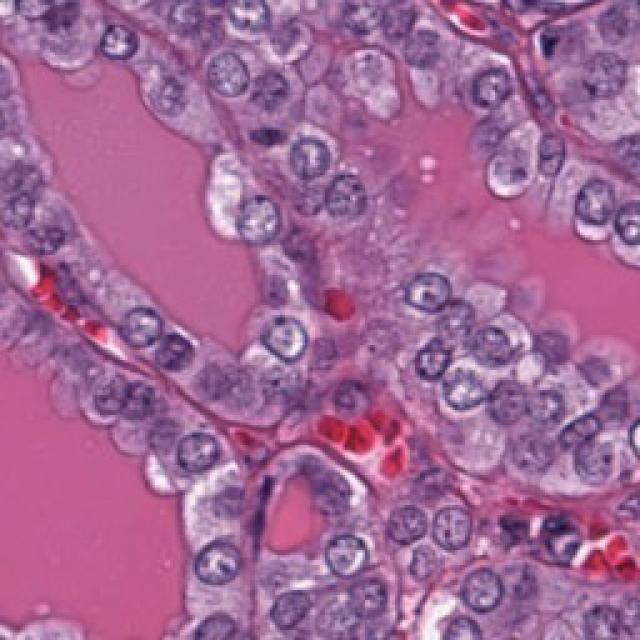abnormal: (208, 166, 291, 261), (110, 266, 177, 369), (391, 249, 475, 330), (170, 407, 256, 485), (256, 285, 333, 371), (479, 122, 546, 216), (130, 56, 188, 153), (144, 310, 204, 401), (460, 39, 520, 124), (197, 29, 253, 120), (187, 531, 265, 595), (91, 347, 145, 439), (420, 495, 488, 568), (576, 414, 638, 491), (381, 497, 447, 563), (249, 51, 299, 133), (324, 524, 393, 582), (568, 164, 617, 243), (395, 16, 453, 80), (441, 366, 497, 431), (509, 427, 560, 495), (464, 556, 515, 622), (410, 325, 462, 380), (485, 372, 536, 421)
